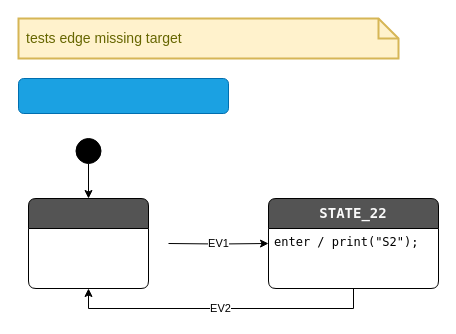
The diagram is 456 pixels wide and 334 high, and some of its shapes have lost their labels. The shapes that lost their labels are listed below. From the top down, each one's centre as x and y in pixels, then its label:
At (123,96): "$STATEMACHINE : MySm".
At (88,243): "STATE_1".
